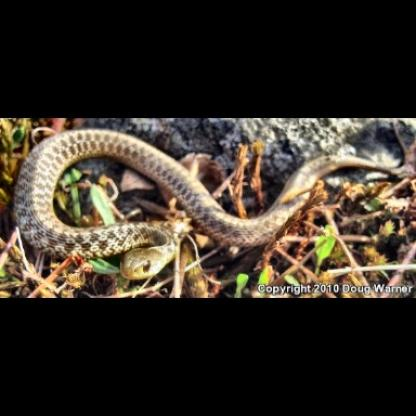Snake: (14, 130, 396, 280)
